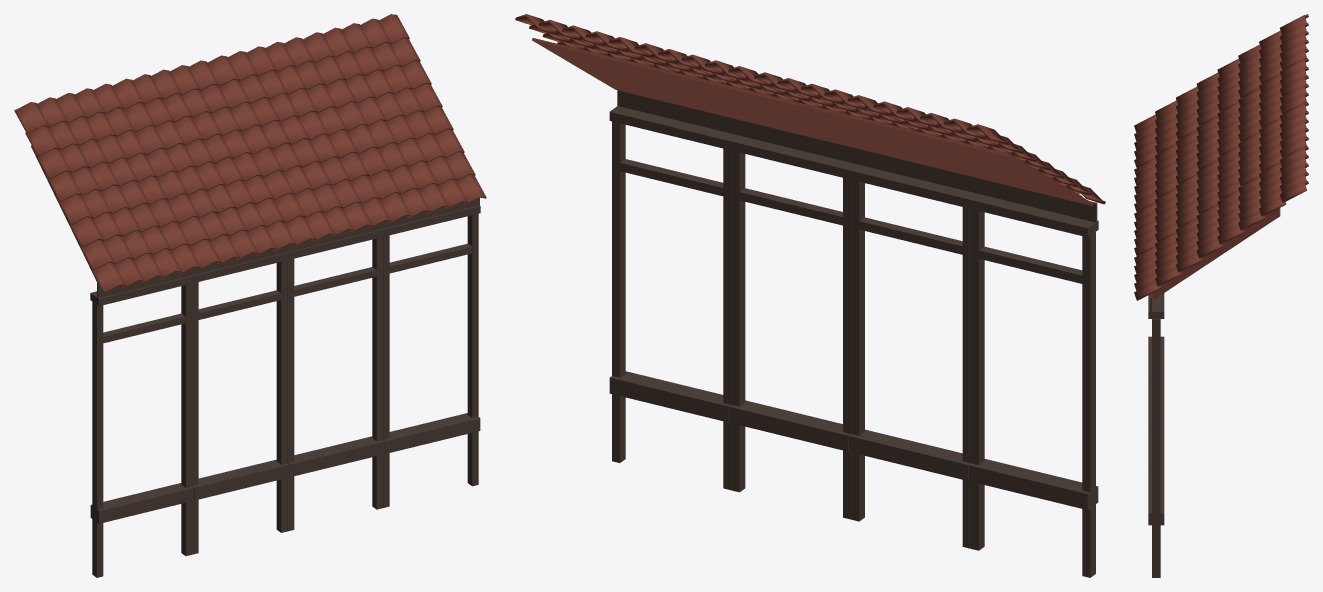
The model's file is outside-panel-L4.fbx.
3 renders of one model, left to right at view 1: azimuth 30°, elevation 25°; view 2: azimuth 150°, elevation 25°; view 3: azimuth 270°, elevation 25°, orthographic. The views are drawn at different scales.
Parts seen in each view (by area): view 1: Cube.029, Cube.028; view 2: Cube.028, Cube.029; view 3: Cube.029, Cube.028.
Part boxes in pixels (left/top/right/bottom): Cube.029: left=14, top=14, right=486, bottom=292; Cube.028: left=90, top=198, right=480, bottom=577; Cube.028: left=609, top=90, right=1098, bottom=577; Cube.029: left=515, top=14, right=1105, bottom=205; Cube.029: left=1134, top=14, right=1308, bottom=300; Cube.028: left=1148, top=293, right=1164, bottom=577.
Size of the model in its own units: 404 by 417 by 168.
